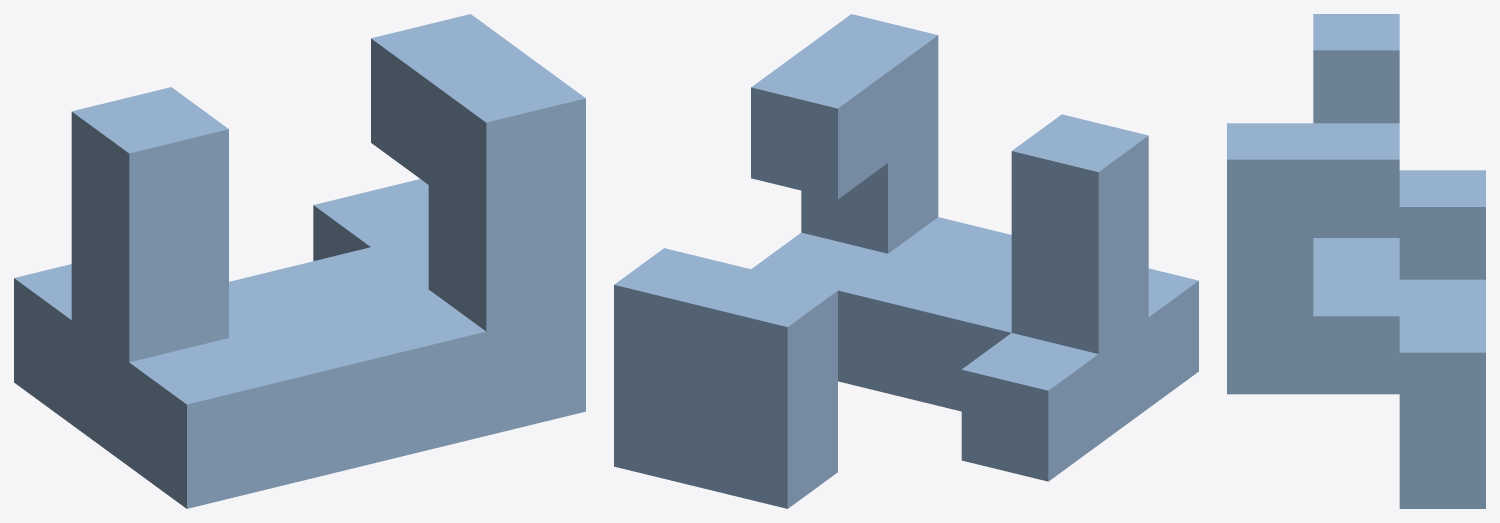
The picture shows the model from 3 angles, left to right: view 1: azimuth 30°, elevation 25°; view 2: azimuth 150°, elevation 25°; view 3: azimuth 270°, elevation 25°; orthographic projection. The views are drawn at different scales.
Parts seen in each view (by area): view 1: _changes (2).020; view 2: _changes (2).020; view 3: _changes (2).020.
Boxes of the visible parts, <box> form: _changes (2).020: <box>14,14,585,508</box>; _changes (2).020: <box>614,14,1198,508</box>; _changes (2).020: <box>1227,14,1485,508</box>.
Size of the model in its own units: 0.1999 by 0.1599 by 0.1199.
